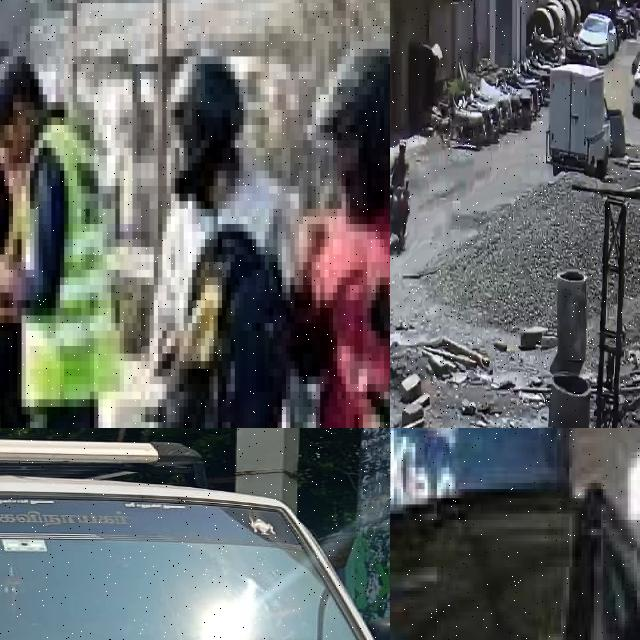bike: (441, 93, 485, 150), (390, 181, 408, 252)
car: (0, 428, 390, 640), (390, 440, 640, 640), (578, 13, 616, 62), (632, 56, 640, 113)
